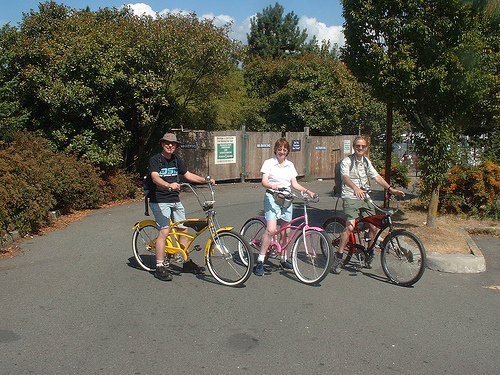without_mask: (352, 136, 369, 159), (160, 138, 179, 157), (274, 144, 291, 162)
